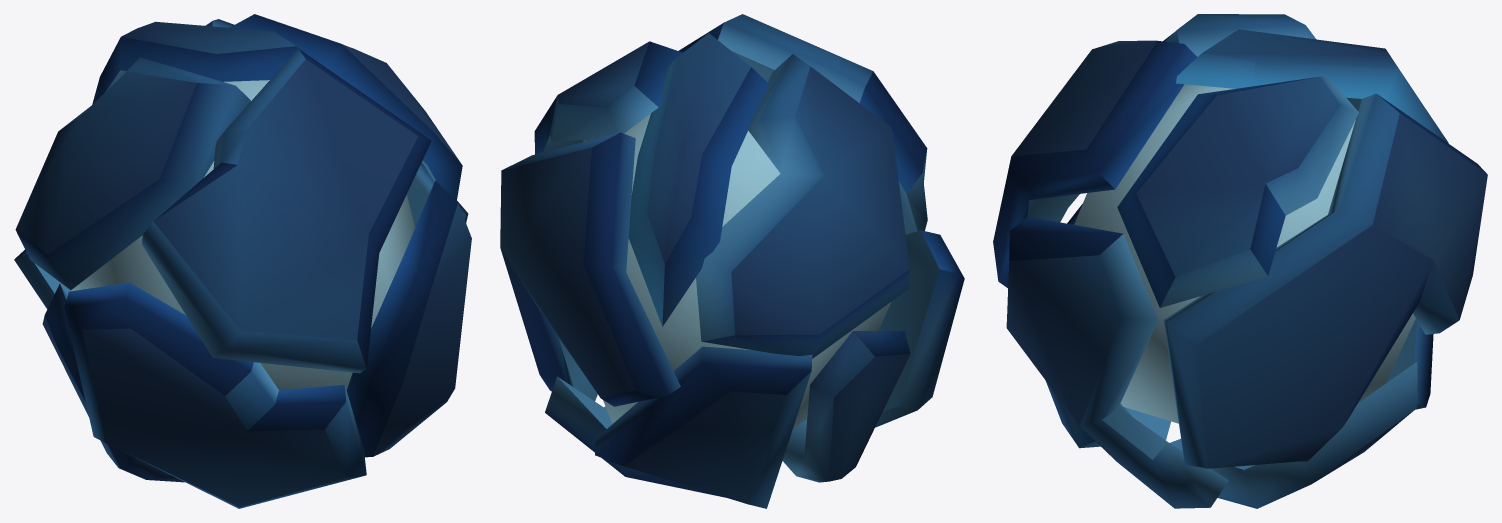
Rendered from grenade_Crystal.glb.
The picture shows the model from 3 angles, left to right: view 1: azimuth 30°, elevation 25°; view 2: azimuth 150°, elevation 25°; view 3: azimuth 270°, elevation 25°; orthographic projection. The views are drawn at different scales.
Visible parts, largest first — view 1: grenade_Crystal; view 2: grenade_Crystal; view 3: grenade_Crystal.
Boxes of the visible parts, x1=… form: grenade_Crystal: x1=14, y1=14, x2=471, y2=508; grenade_Crystal: x1=500, y1=14, x2=964, y2=508; grenade_Crystal: x1=993, y1=14, x2=1487, y2=508.
Size of the model in its own units: 0.1434 by 0.1475 by 0.1477.
